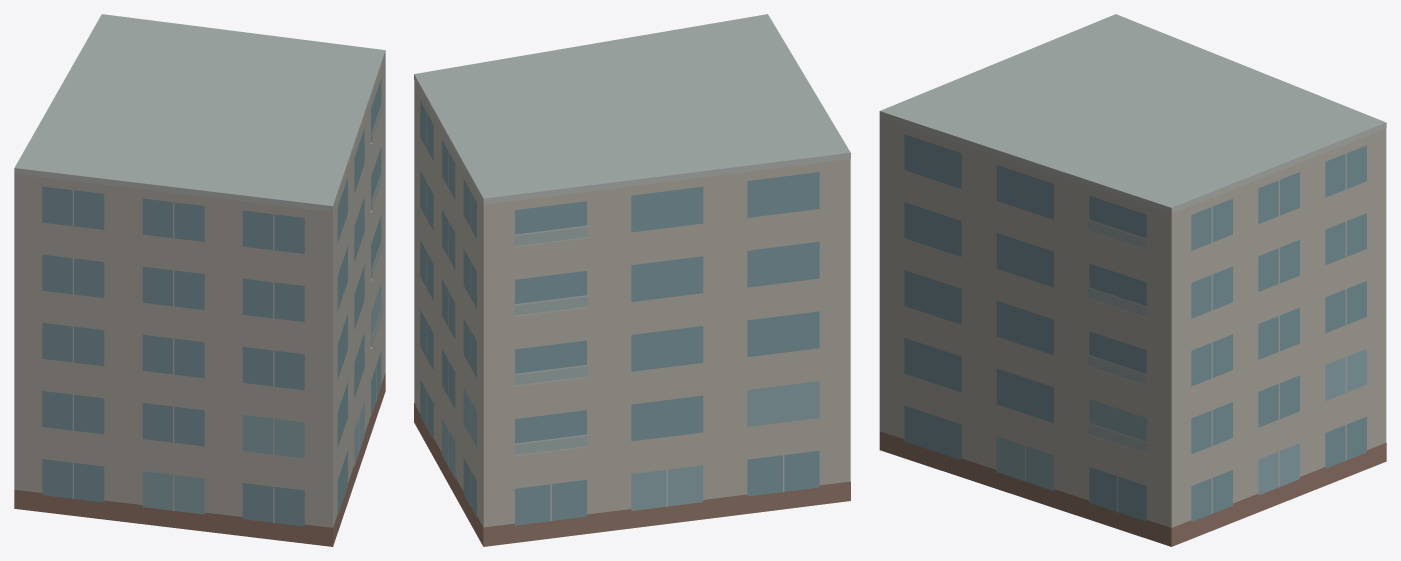
File: survey-upis-32956103.glb
3 renders of one model, left to right at view 1: azimuth 30°, elevation 25°; view 2: azimuth 150°, elevation 25°; view 3: azimuth 270°, elevation 25°, orthographic. The views are drawn at different scales.
Visible parts, largest first — view 1: survey-upis-32956103.tmp; view 2: survey-upis-32956103.tmp; view 3: survey-upis-32956103.tmp.
Boxes of the visible parts, left/top/right/bottom form: survey-upis-32956103.tmp: left=14, top=14, right=385, bottom=546; survey-upis-32956103.tmp: left=414, top=14, right=850, bottom=546; survey-upis-32956103.tmp: left=879, top=14, right=1386, bottom=546.
Bounding box in the file's own units: 17.25 × 14.06 × 19.06.
